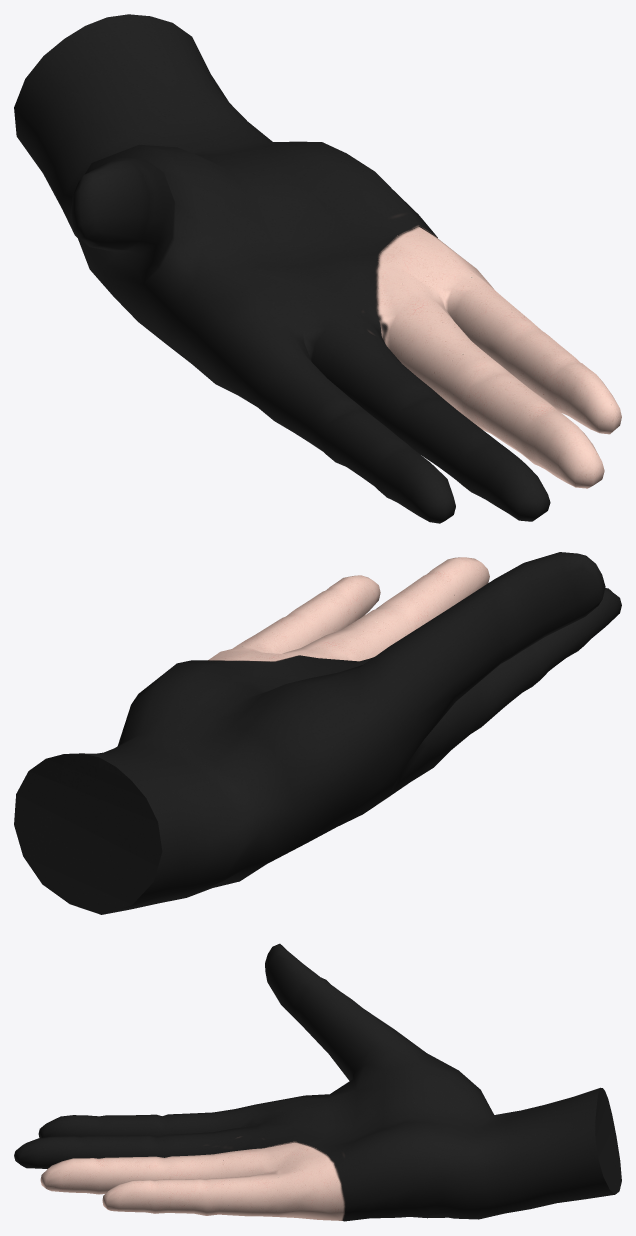
The model's file is rightHand.FBX.
3 renders of one model, top to bottom at view 1: azimuth 30°, elevation 25°; view 2: azimuth 150°, elevation 25°; view 3: azimuth 270°, elevation 25°, orthographic. The views are drawn at different scales.
Parts seen in each view (by area): view 1: Object001; view 2: Object001; view 3: Object001.
Boxes of the visible parts, x1,y1,x2,y2 form: Object001: (14,14,621,523); Object001: (14,552,621,914); Object001: (14,943,621,1221).
Size of the model in its own units: 125 by 87.26 by 254.
Materials: 7 (1 with a texture image).
